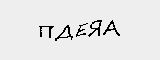А: (105, 20, 121, 37)
Д: (56, 24, 73, 40)
Е: (74, 21, 86, 38)
П: (38, 24, 53, 41)
Я: (89, 17, 103, 38)
